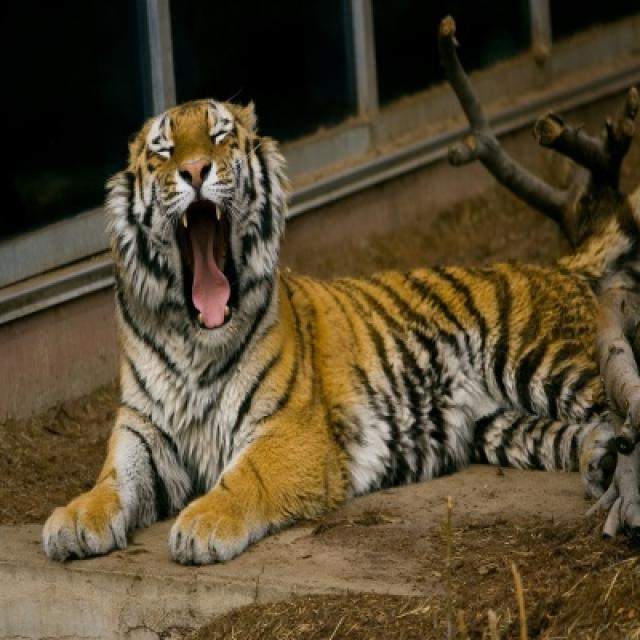Tiger: (40, 99, 631, 565)
